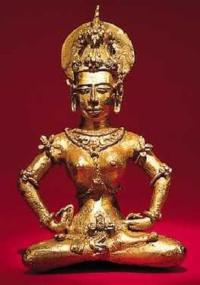golden_tara_of_agusan: (14, 4, 188, 272)
